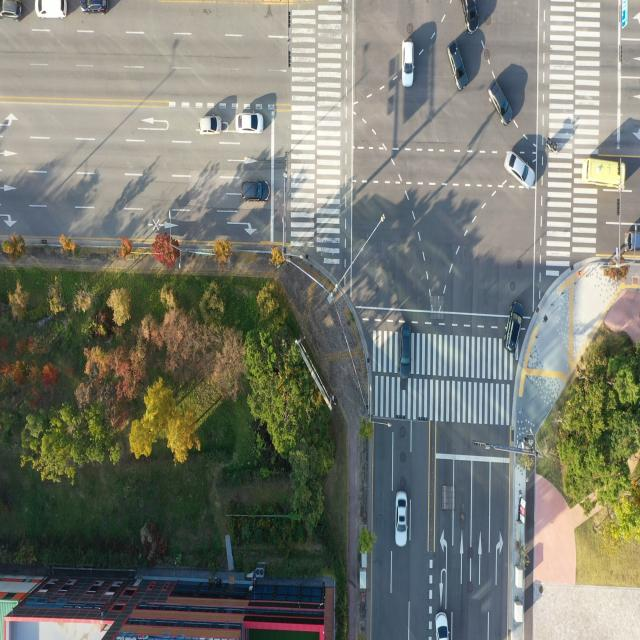car: (503, 154, 535, 194), (486, 80, 514, 125), (503, 300, 526, 351), (447, 40, 465, 91), (394, 491, 407, 550), (399, 321, 411, 382), (31, 0, 67, 19), (242, 180, 270, 202), (461, 0, 479, 34), (404, 42, 416, 91), (198, 115, 223, 138), (237, 112, 264, 132), (0, 0, 24, 21), (80, 0, 110, 14), (436, 613, 451, 640), (626, 230, 640, 254)
small_bus: (583, 154, 628, 191)
